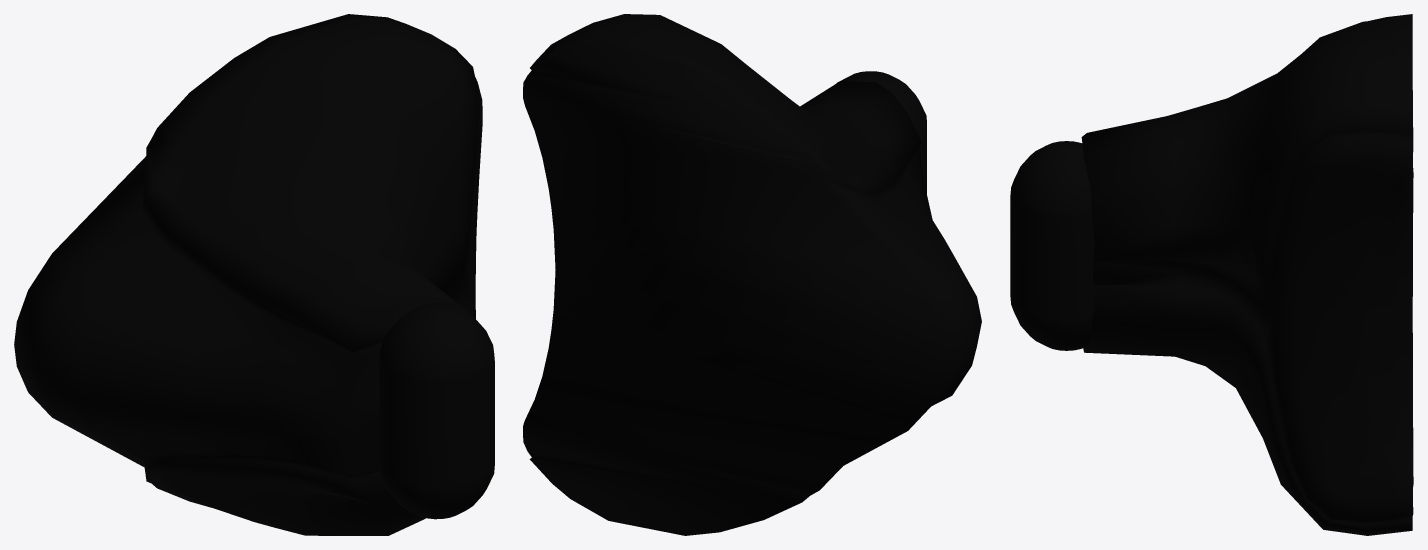
Rendered from KneePitch.obj.
The picture shows the model from 3 angles, left to right: view 1: azimuth 30°, elevation 25°; view 2: azimuth 150°, elevation 25°; view 3: azimuth 270°, elevation 25°; orthographic projection. The views are drawn at different scales.
Size of the model in its own units: 4.3 by 4.74 by 3.58.
